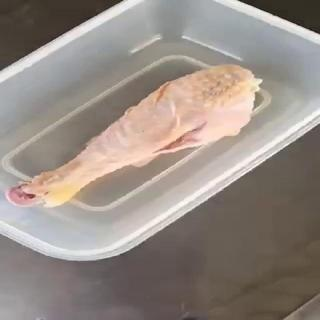Ayam: (6, 64, 264, 208)
